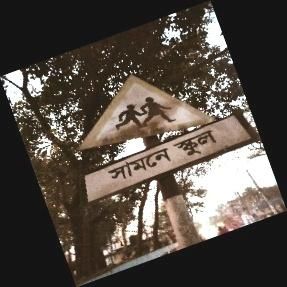School-in-front: (76, 73, 255, 205)
